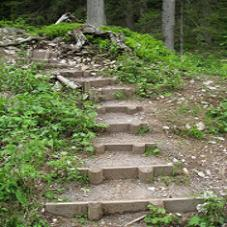Stair Up: (27, 50, 209, 226)
